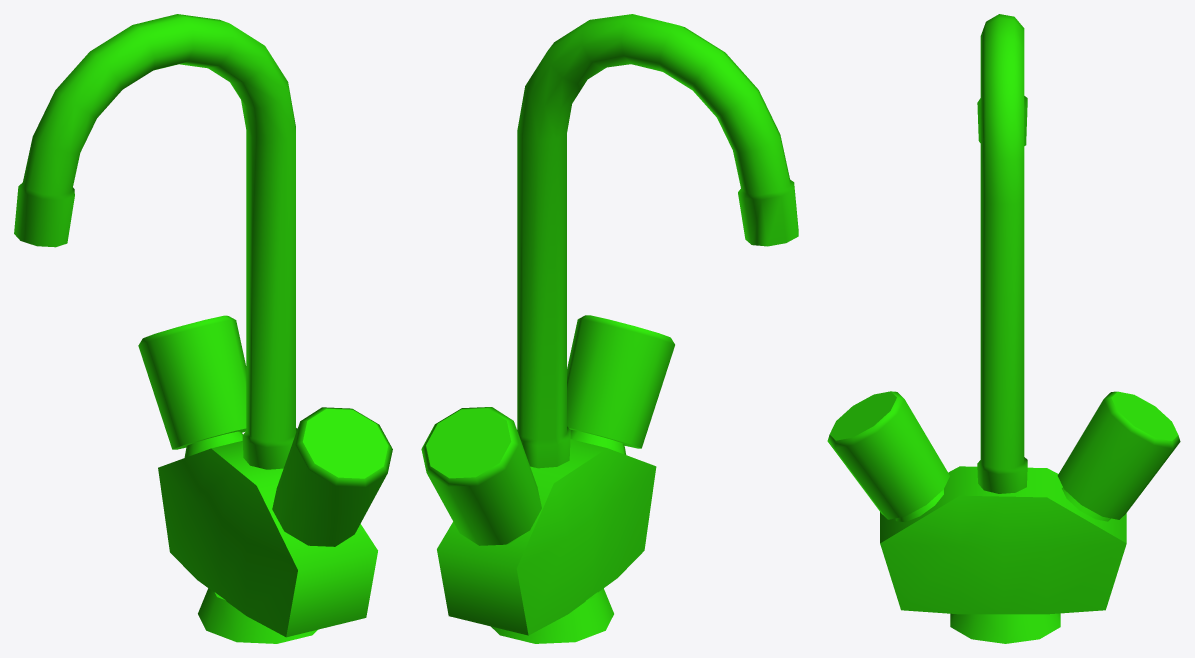
File: Kitchen_Faucet_01_Lod0.fbx
3 renders of one model, left to right at view 1: azimuth 30°, elevation 25°; view 2: azimuth 150°, elevation 25°; view 3: azimuth 270°, elevation 25°, orthographic. The views are drawn at different scales.
Visible parts, largest first — view 1: Kitchen_Faucet_01_Lod0; view 2: Kitchen_Faucet_01_Lod0; view 3: Kitchen_Faucet_01_Lod0.
Part boxes in pixels (<box>): Kitchen_Faucet_01_Lod0: <box>14,14,392,643</box>; Kitchen_Faucet_01_Lod0: <box>421,14,798,643</box>; Kitchen_Faucet_01_Lod0: <box>827,14,1180,643</box>.
Size of the model in its own units: 18.86 by 36.9 by 21.58.
